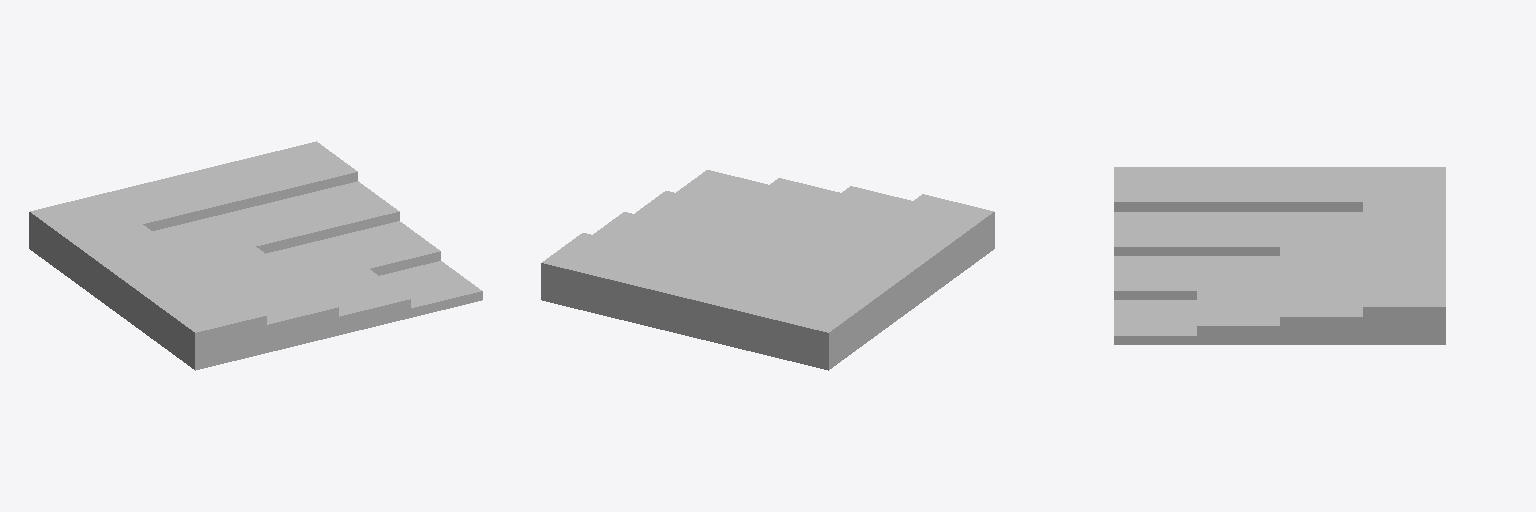
Rendered from spaceInterior_066.obj.
3 views of the same model, side by side, from view 1: azimuth 30°, elevation 25°; view 2: azimuth 150°, elevation 25°; view 3: azimuth 270°, elevation 25° (orthographic).
Parts seen in each view (by area): view 1: Mesh1 Group1 Model; view 2: Mesh1 Group1 Model; view 3: Mesh1 Group1 Model.
Boxes of the visible parts, x1,y1,x2,y2 form: Mesh1 Group1 Model: [29, 141, 482, 370]; Mesh1 Group1 Model: [541, 170, 994, 370]; Mesh1 Group1 Model: [1114, 167, 1445, 344].
Size of the model in its own units: 1 by 0.125 by 1.